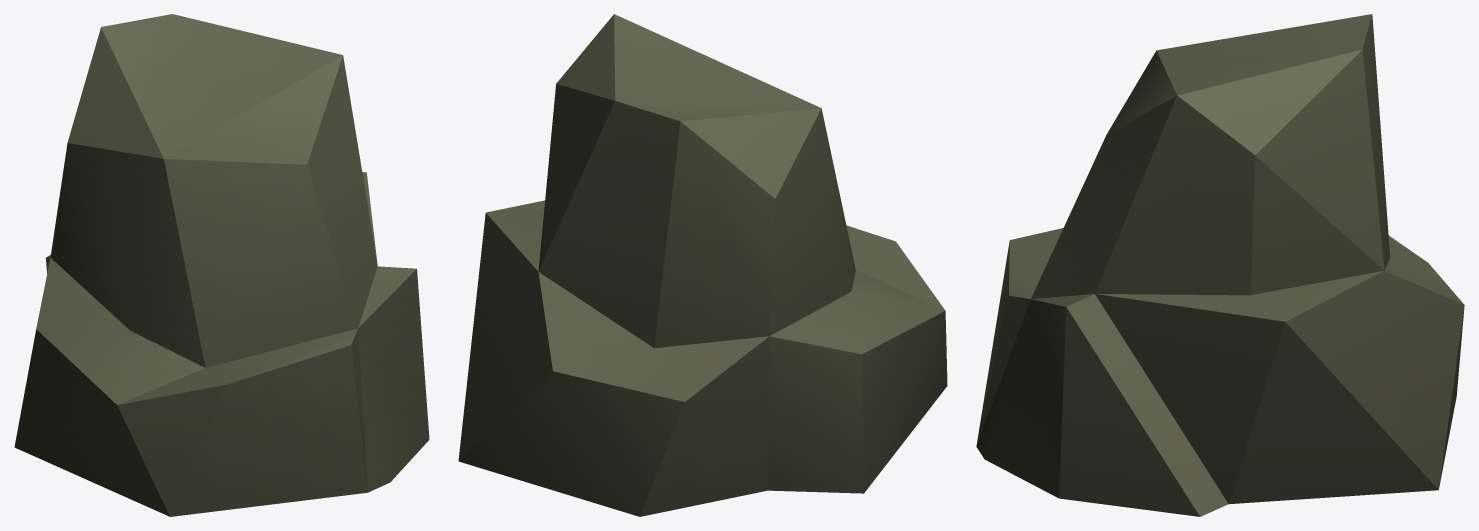
Rendered from RockFace6.fbx.
The picture shows the model from 3 angles, left to right: view 1: azimuth 30°, elevation 25°; view 2: azimuth 150°, elevation 25°; view 3: azimuth 270°, elevation 25°; orthographic projection. The views are drawn at different scales.
Parts seen in each view (by area): view 1: Cube; view 2: Cube; view 3: Cube.
Part boxes in pixels (x1,y1,x2,y2): Cube: (14, 14, 429, 516); Cube: (458, 14, 947, 516); Cube: (976, 14, 1464, 516).
Bounding box in the file's own units: 203 × 191 × 217.
